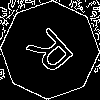R: (25, 25, 82, 83)
